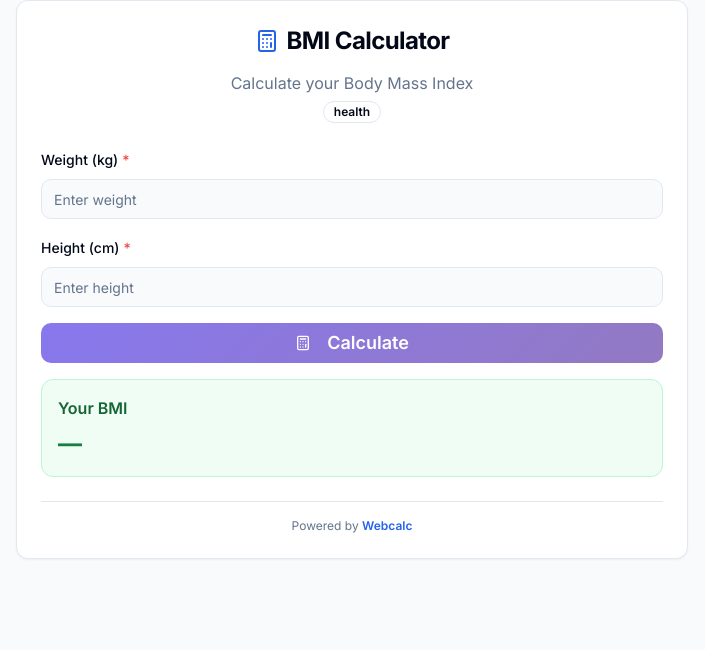
Scenario: Three Main Calculators Validation › BMI Calculator › validates weight and height ranges
// Test weight too low
In the number field with test id "input-weight": (352, 199) left=41, top=179, right=663, bottom=219, type "5"
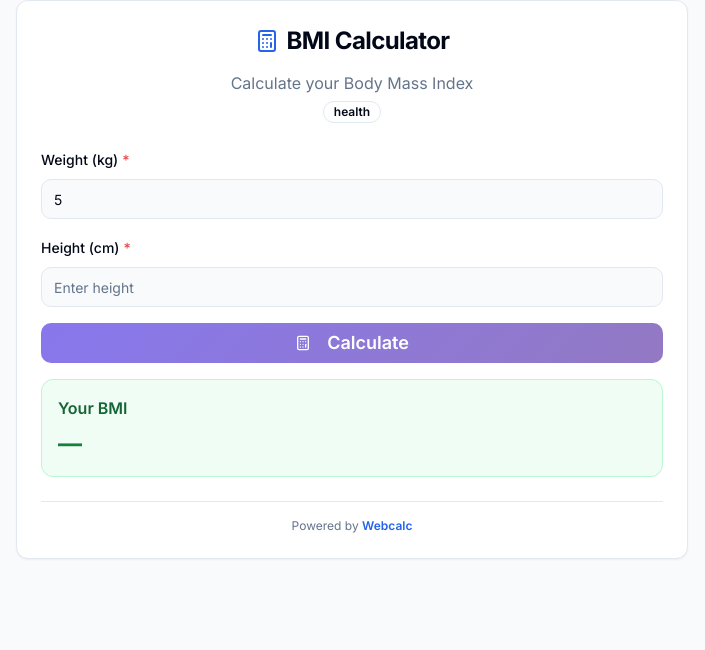
In the number field with test id "input-height": (352, 287) left=41, top=267, right=663, bottom=307, type "175"
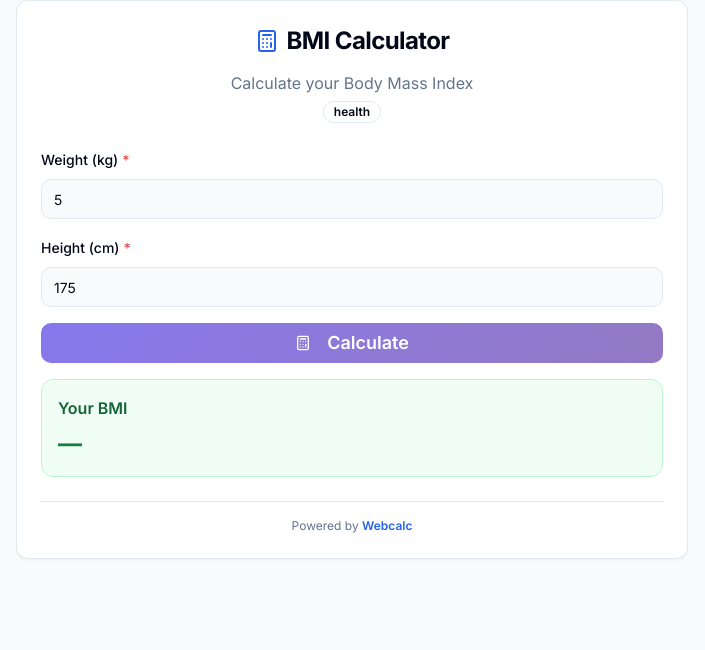
Click the button with test id "button-calculate": click(352, 343) left=41, top=323, right=663, bottom=363
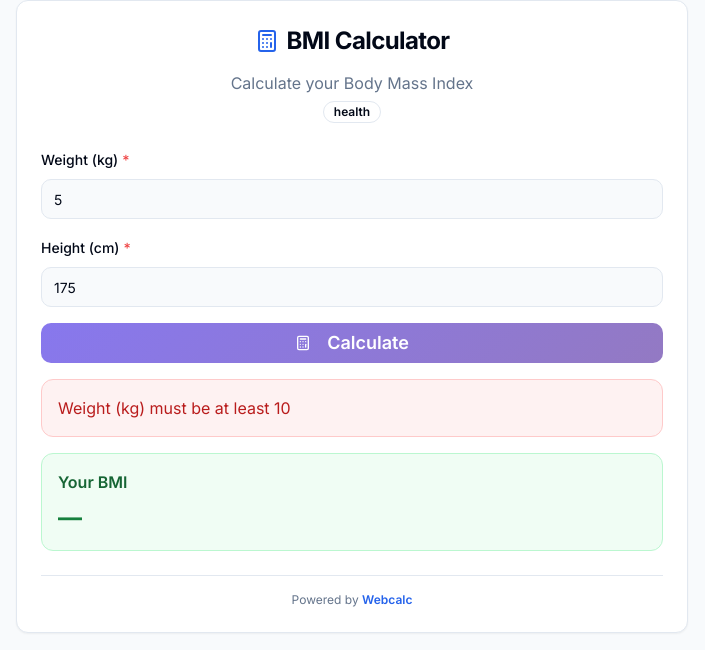
Expected: the text "Weight (kg) must be at least 10" is shown, left=58, top=398, right=291, bottom=418
